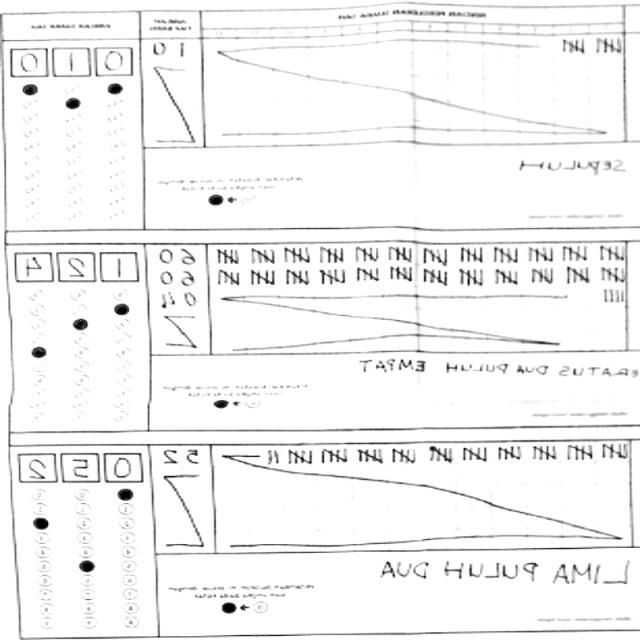Suara: (13, 243, 144, 287), (17, 444, 149, 485), (9, 42, 139, 78)
